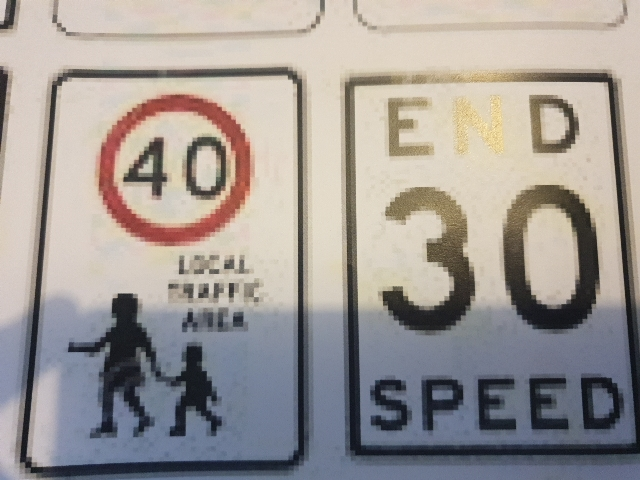sp30: (370, 185, 606, 343)
sp40: (93, 100, 268, 235)
